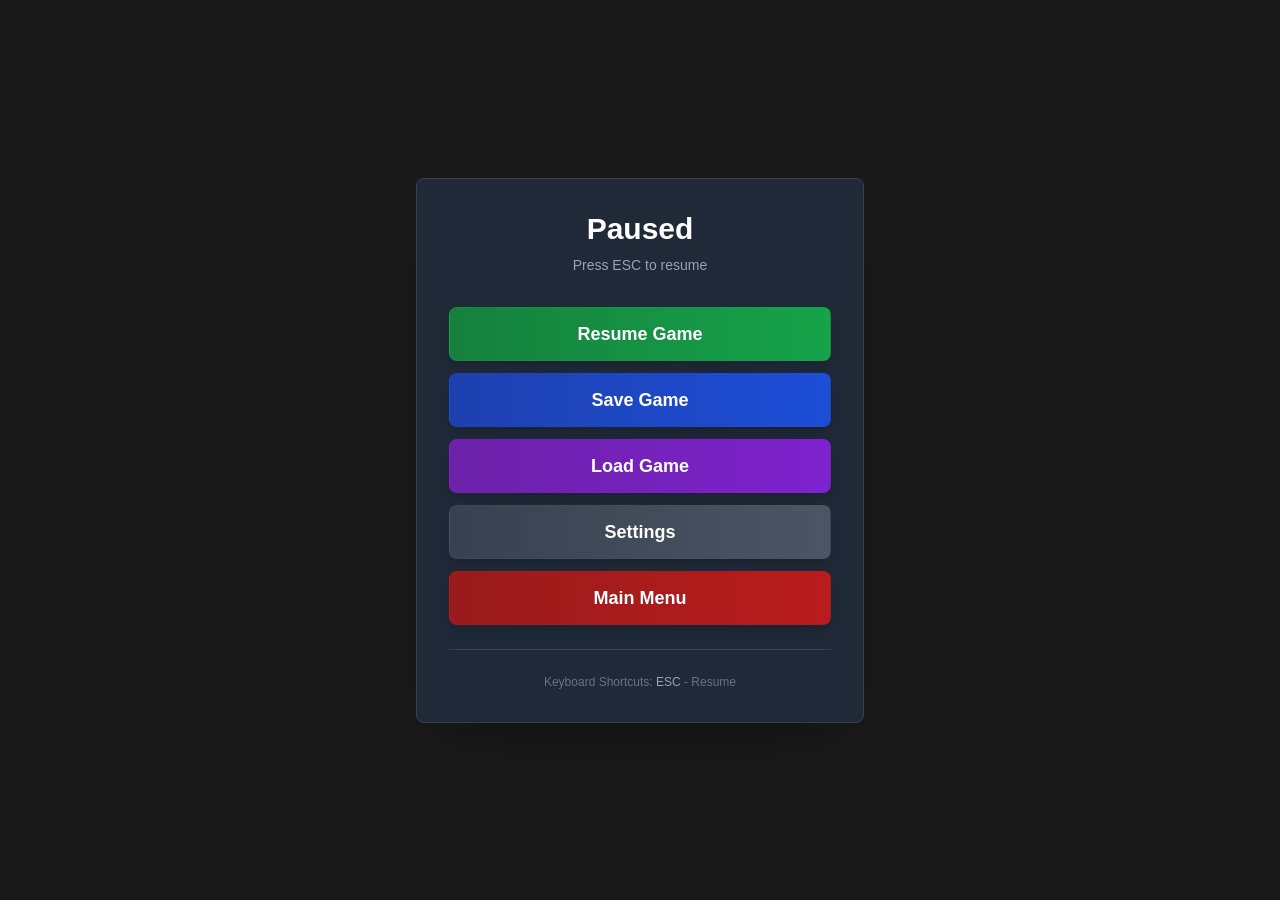
Scenario: PauseMenu › Settings Button › should open settings menu
Click the button "Settings": (640,532) [449,504,831,558]
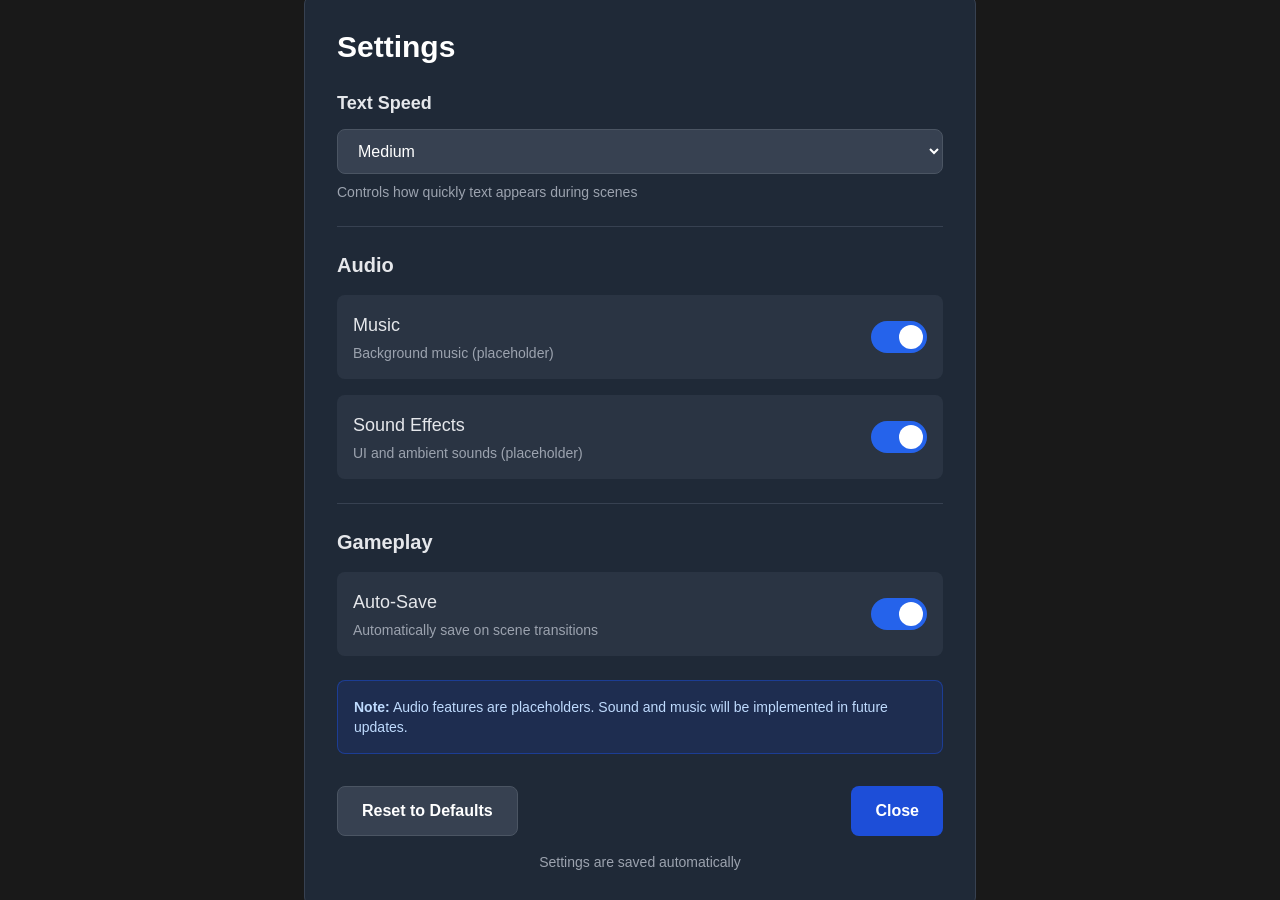
Expected: the text "Text Speed" is shown, [337,92,432,112]
Expected: the heading "Audio" is shown, [337,254,394,276]
